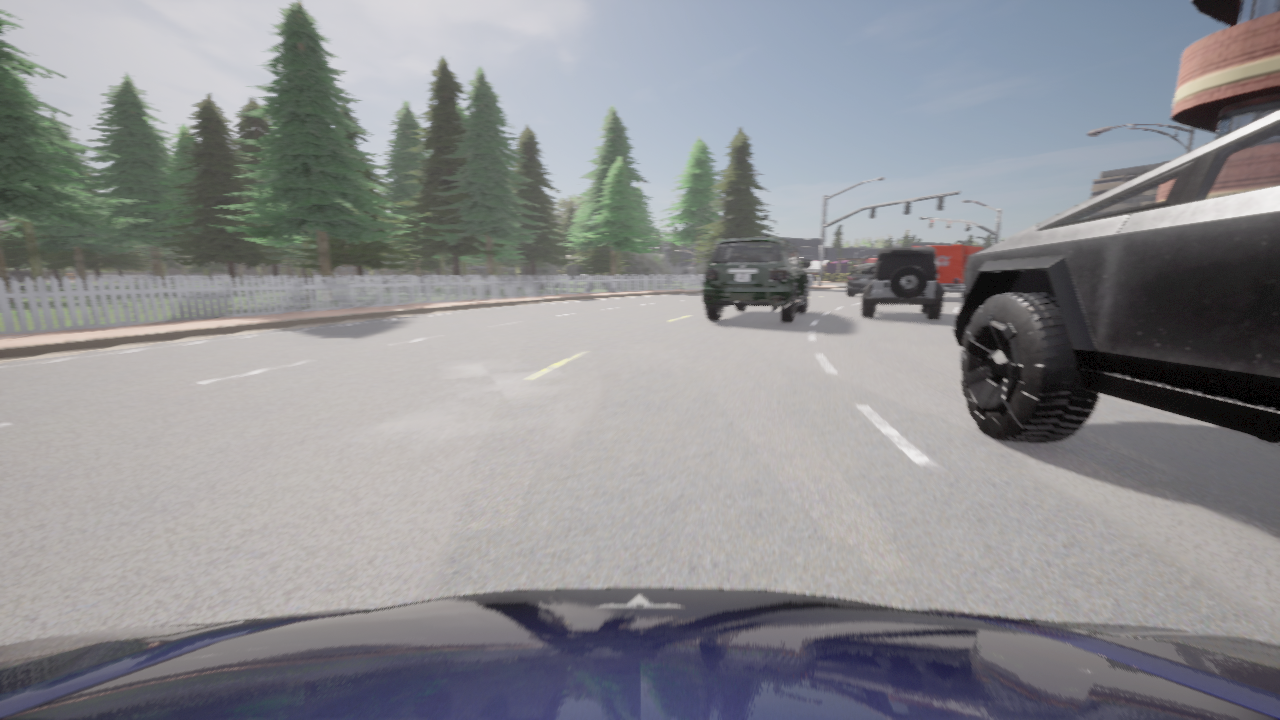cyclist: (0, 588, 1279, 719), (953, 110, 1279, 444), (703, 238, 810, 323), (861, 247, 942, 319), (911, 244, 983, 299), (846, 265, 874, 296)
